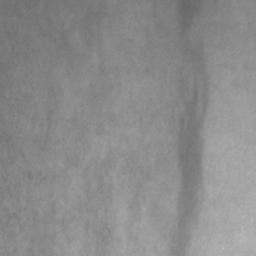Inclusion: (177, 102, 202, 256)
